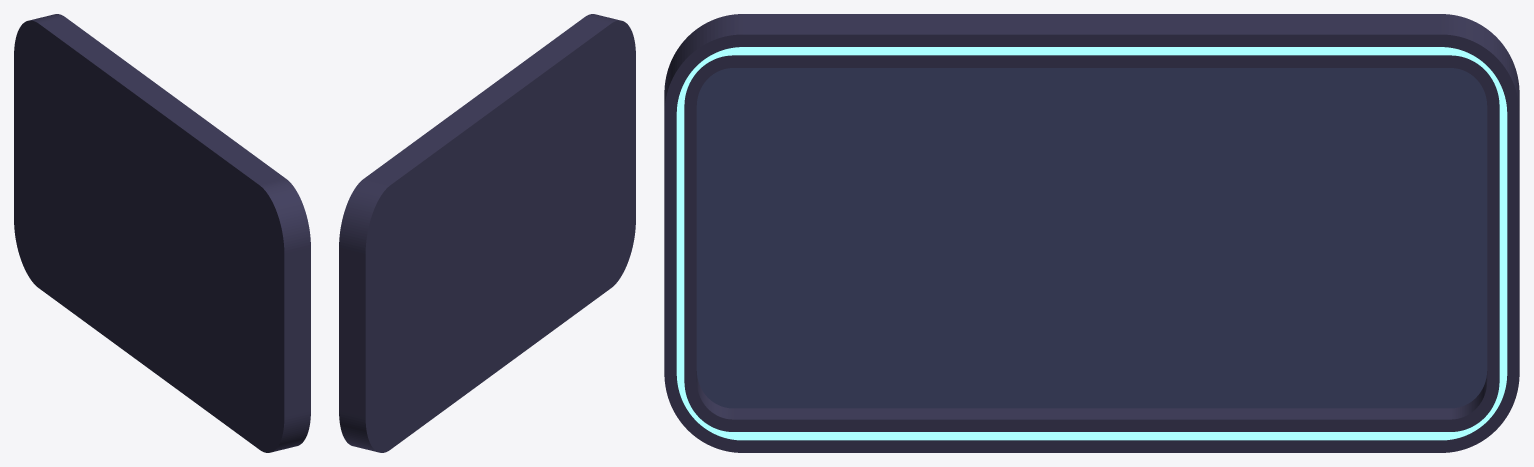
File: Ad Screen.fbx
The picture shows the model from 3 angles, left to right: view 1: azimuth 30°, elevation 25°; view 2: azimuth 150°, elevation 25°; view 3: azimuth 270°, elevation 25°; orthographic projection. The views are drawn at different scales.
Parts seen in each view (by area): view 1: _Ad Screen2; view 2: _Ad Screen2; view 3: _Ad Screen2.
Part boxes in pixels (<box>): _Ad Screen2: <box>14,14,310,452</box>; _Ad Screen2: <box>339,14,635,452</box>; _Ad Screen2: <box>664,14,1519,452</box>.
Size of the model in its own units: 0.3821 by 3.63 by 6.72.
